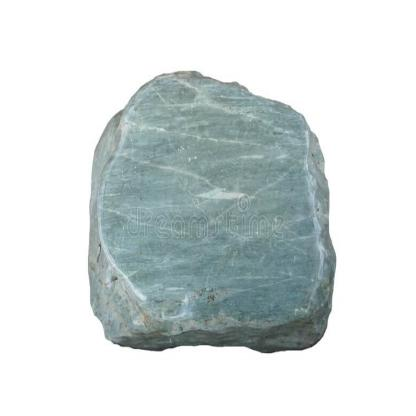Sedimentary_Limestone: (81, 64, 350, 367)
